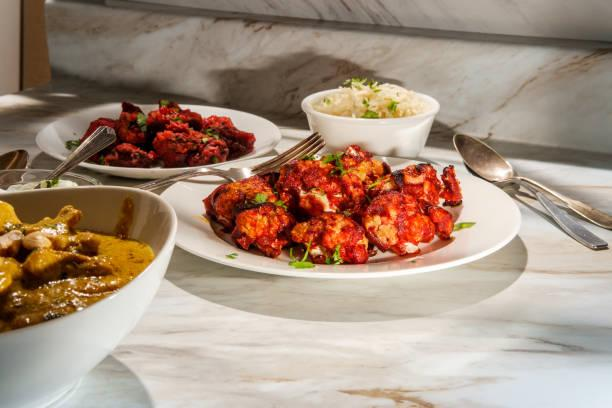Braised Crucian Carp: (158, 155, 515, 279), (35, 101, 276, 179), (300, 87, 438, 160)
